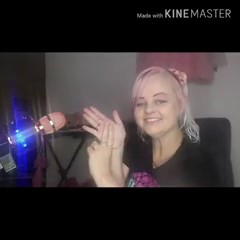N: (77, 102, 130, 177)
